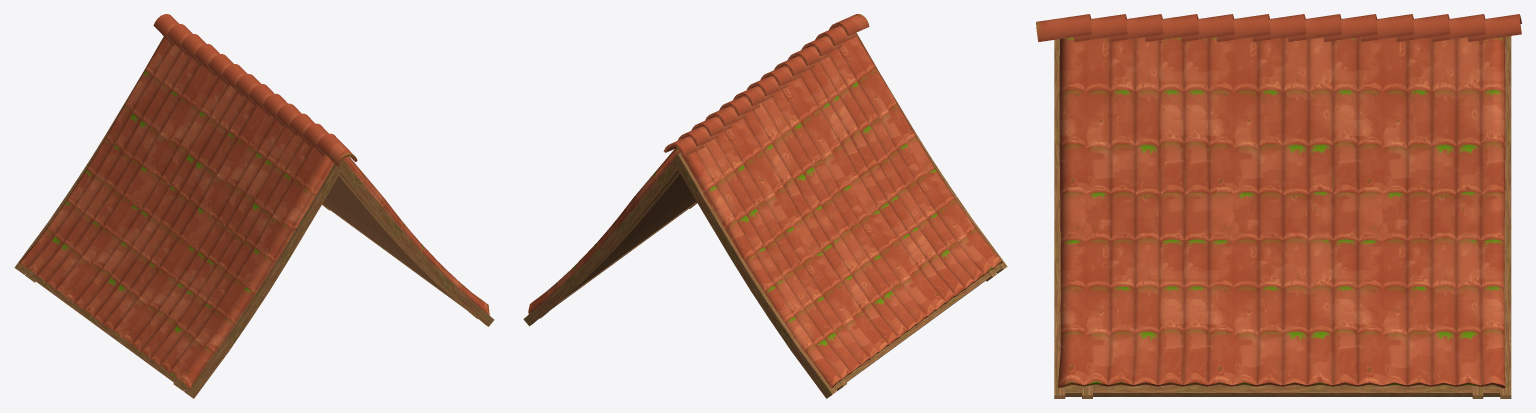
The model's file is Roof_RoundTiles_8x8.glb.
3 views of the same model, side by side, from view 1: azimuth 30°, elevation 25°; view 2: azimuth 150°, elevation 25°; view 3: azimuth 270°, elevation 25° (orthographic). The views are drawn at different scales.
Visible parts, largest first — view 1: Roof_RoundTiles_8x8; view 2: Roof_RoundTiles_8x8; view 3: Roof_RoundTiles_8x8.
Part boxes in pixels (x1,y1,x2,y2): Roof_RoundTiles_8x8: (14, 14, 494, 398); Roof_RoundTiles_8x8: (523, 14, 1007, 398); Roof_RoundTiles_8x8: (1036, 14, 1521, 398).
Size of the model in its own units: 9.95 by 6.78 by 10.33.
Materials: 2 (2 with a texture image).
